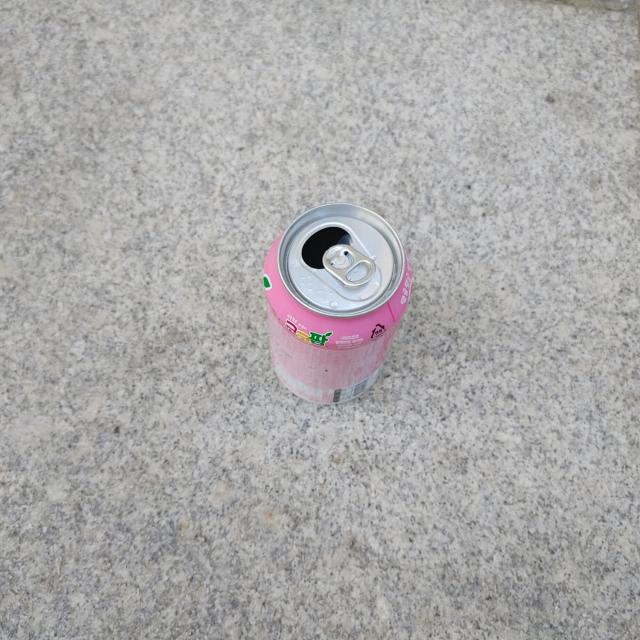can: (263, 203, 413, 404)
